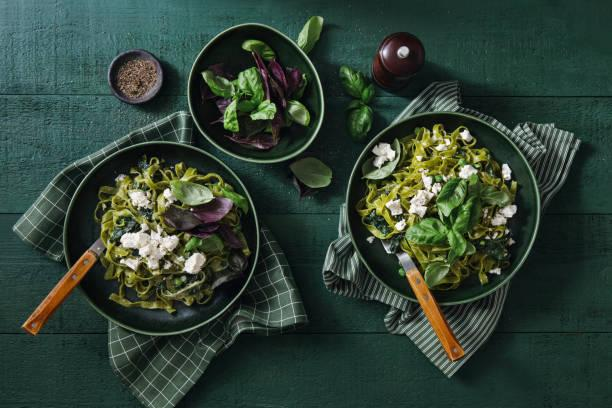Braised Crucian Carp: (64, 141, 256, 334), (345, 112, 535, 306), (187, 23, 321, 165)
